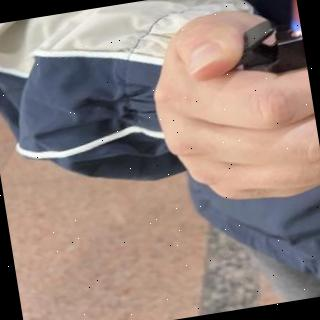fire: (281, 0, 301, 32)
